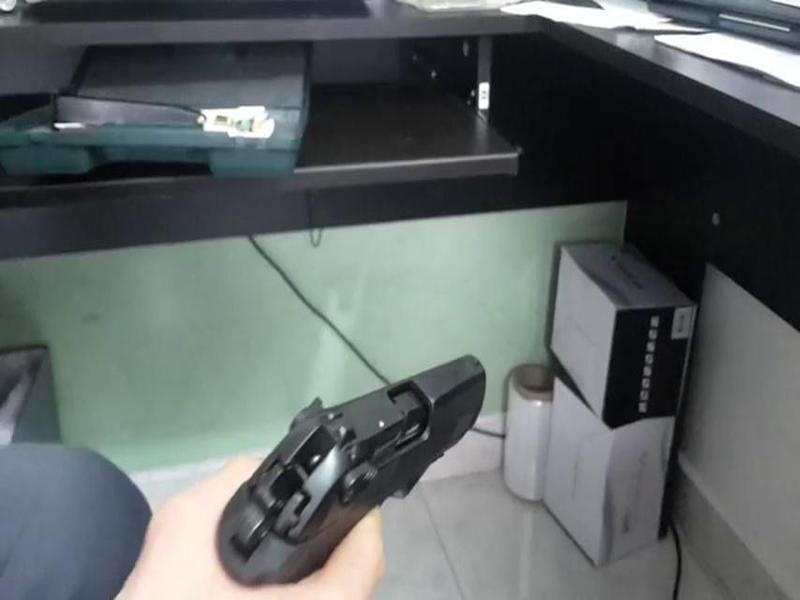Pistola: (219, 344, 496, 595)
